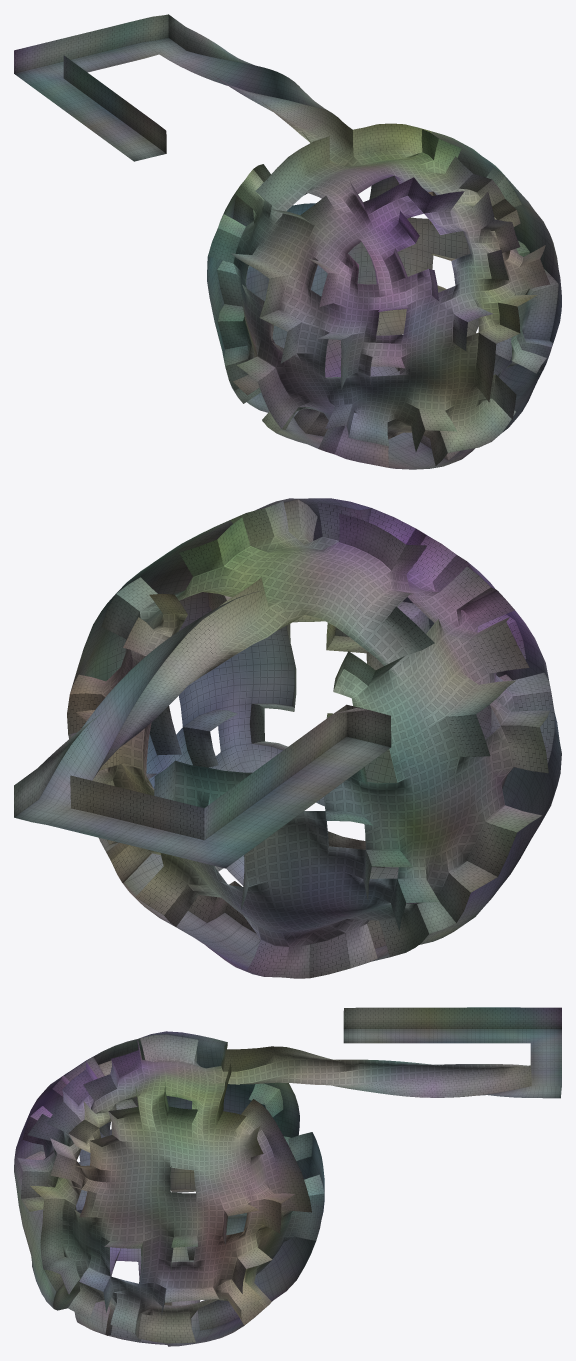
3 renders of one model, top to bottom at view 1: azimuth 30°, elevation 25°; view 2: azimuth 150°, elevation 25°; view 3: azimuth 270°, elevation 25°, orthographic. The views are drawn at different scales.
Parts seen in each view (by area): view 1: file1; view 2: file1; view 3: file1.
Part boxes in pixels (<box>): file1: <box>14,14,561,469</box>; file1: <box>14,498,561,978</box>; file1: <box>14,1007,561,1346</box>.
Bounding box in the file's own units: 51.01 × 50.71 × 87.88.
Materials: 3 (3 with a texture image).
